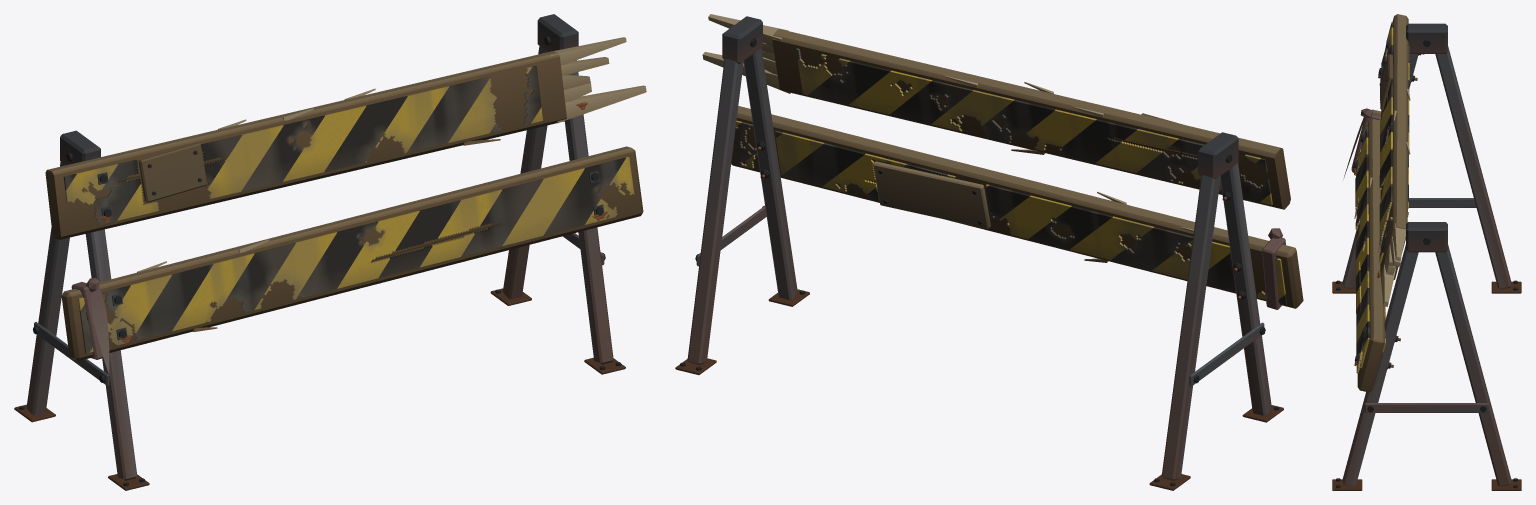
The model's file is barricade.glb.
3 views of the same model, side by side, from view 1: azimuth 30°, elevation 25°; view 2: azimuth 150°, elevation 25°; view 3: azimuth 270°, elevation 25° (orthographic). The views are drawn at different scales.
Parts seen in each view (by area): view 1: barricade; view 2: barricade; view 3: barricade.
Boxes of the visible parts, <box> form: barricade: <box>14,14,646,490</box>; barricade: <box>675,14,1303,490</box>; barricade: <box>1332,14,1521,490</box>.
Size of the model in its own units: 1.92 by 0.9601 by 0.63.
